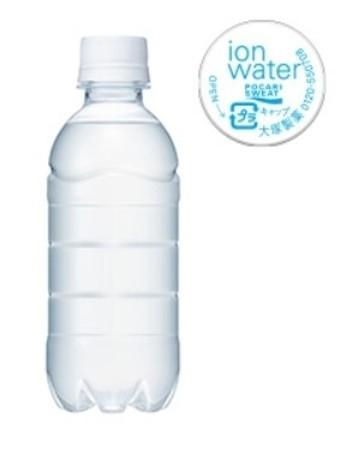plastic_bottle: (41, 31, 188, 417)
